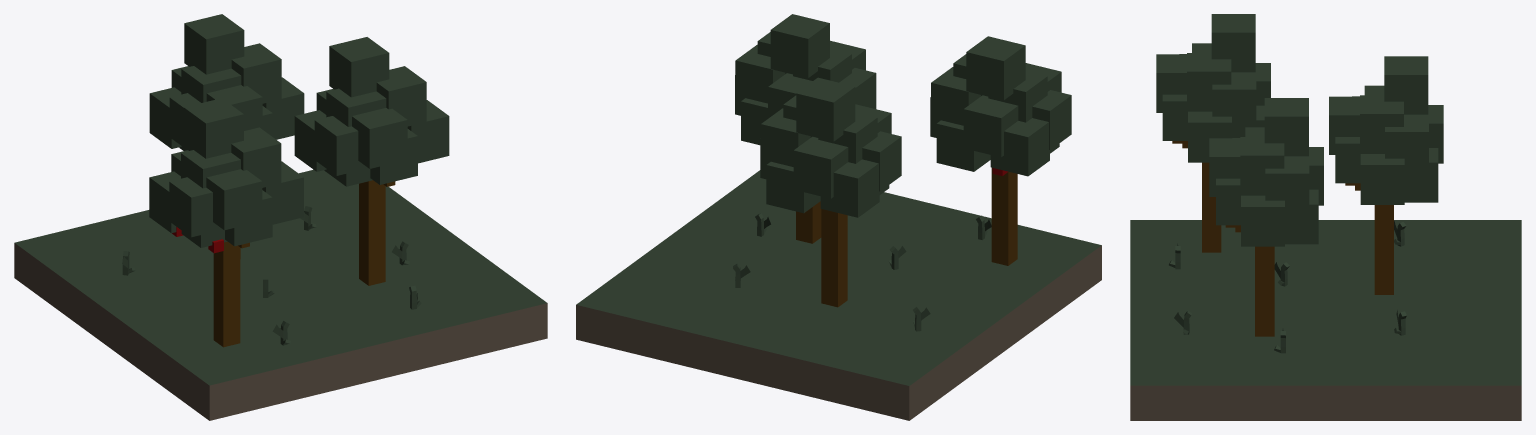
The model's file is trees-1.glb.
3 views of the same model, side by side, from view 1: azimuth 30°, elevation 25°; view 2: azimuth 150°, elevation 25°; view 3: azimuth 270°, elevation 25° (orthographic).
Parts seen in each view (by area): view 1: Tile::EmptyLot.001; view 2: Tile::EmptyLot.001; view 3: Tile::EmptyLot.001.
Part boxes in pixels (bbox=[...]): Tile::EmptyLot.001: bbox=[14, 14, 547, 420]; Tile::EmptyLot.001: bbox=[576, 14, 1101, 420]; Tile::EmptyLot.001: bbox=[1130, 14, 1521, 420].
Size of the model in its own units: 1 by 0.7314 by 1.
